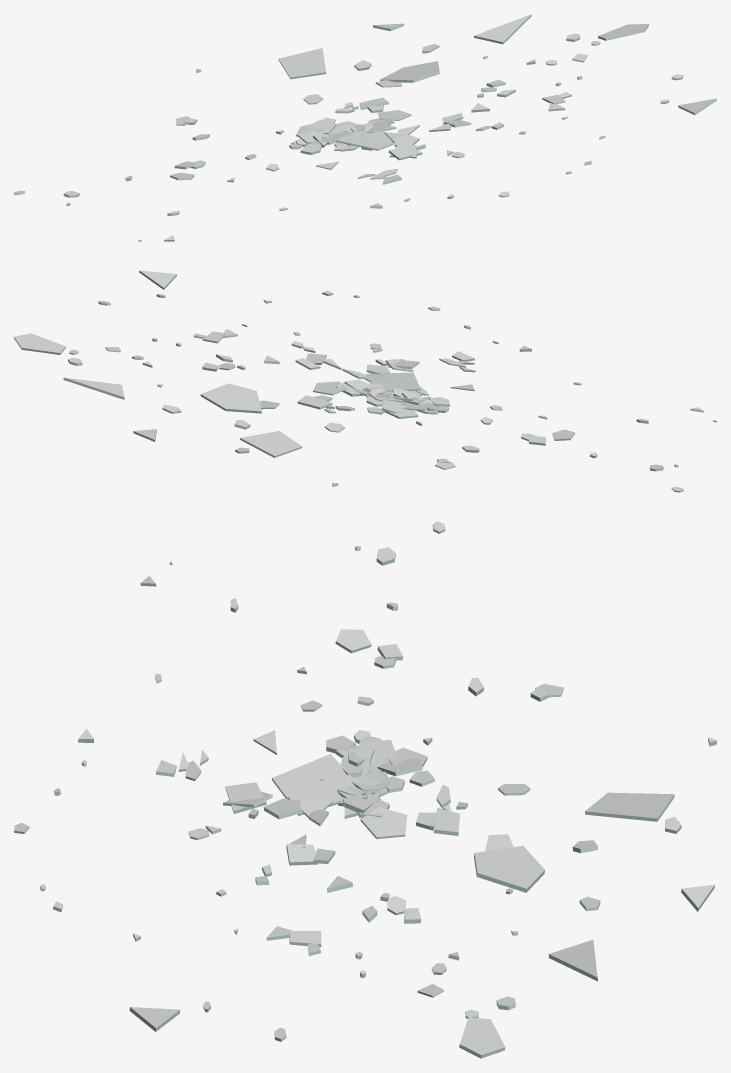
File: GroundGlass_WindowFall.fbx
3 renders of one model, top to bottom at view 1: azimuth 30°, elevation 25°; view 2: azimuth 150°, elevation 25°; view 3: azimuth 270°, elevation 25°, orthographic. The views are drawn at different scales.
Parts seen in each view (by area): view 1: GroundGlass_WindowFall; view 2: GroundGlass_WindowFall; view 3: GroundGlass_WindowFall.
Part boxes in pixels (box(x1,y1,x2,y2)): GroundGlass_WindowFall: box(14, 14, 716, 241); GroundGlass_WindowFall: box(14, 270, 716, 492); GroundGlass_WindowFall: box(14, 521, 716, 1058).
Size of the model in its own units: 185 by 2.59 by 102.
